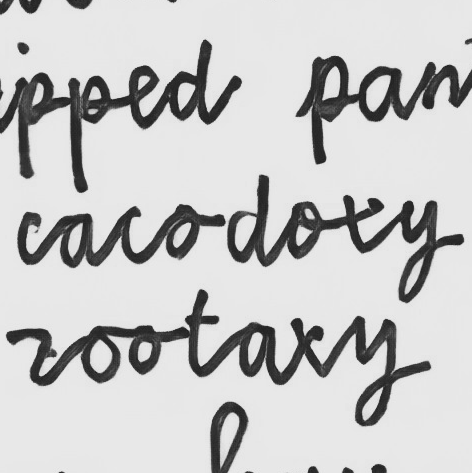a: (57, 212, 99, 271)
c: (112, 205, 151, 265), (14, 210, 48, 268)
d: (223, 173, 274, 269)
o: (283, 199, 323, 262), (162, 201, 202, 261)
x: (337, 192, 386, 254)
y: (394, 198, 441, 305)
